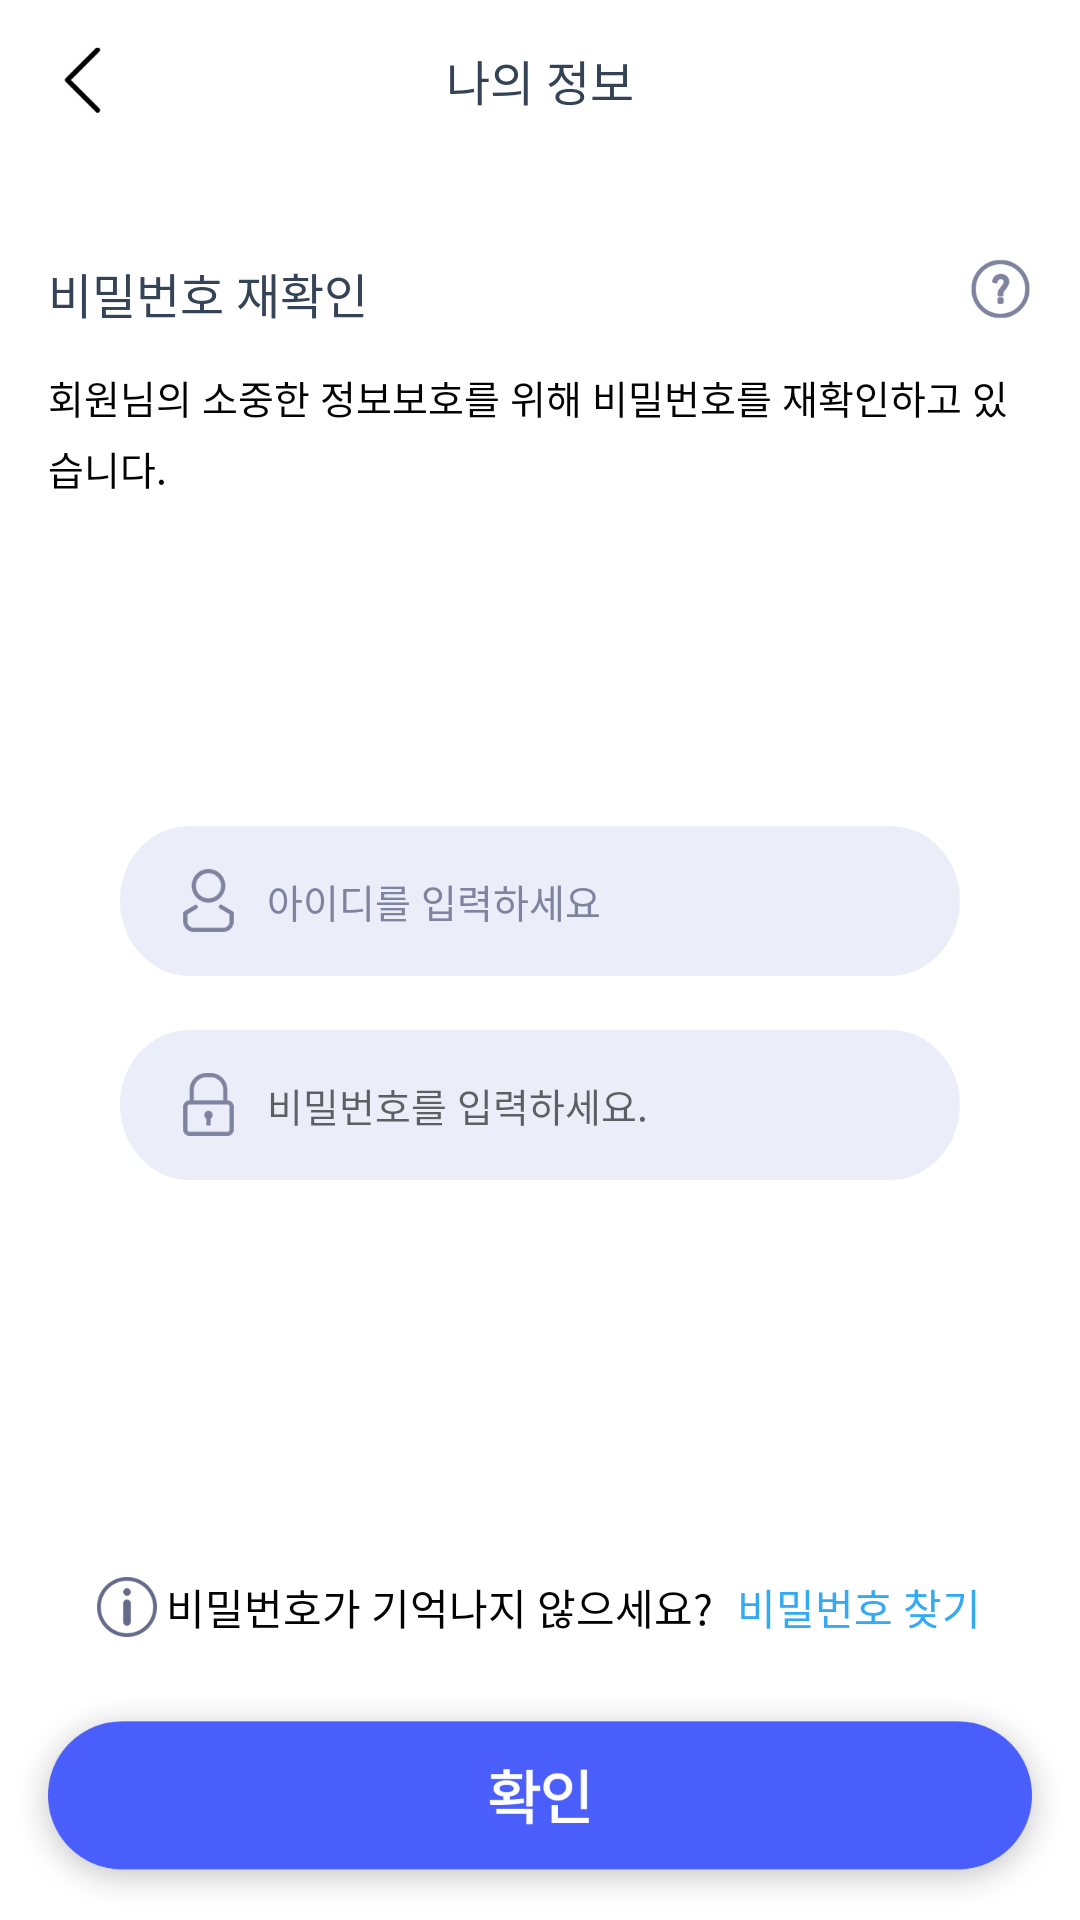

Icons on this 1080*1920 Android screen, each with its box as [x1, y1, x2, y2]:
help: [971, 260, 1030, 318]
lock: [183, 1073, 234, 1136]
login info: [97, 1577, 157, 1637]
person: [183, 869, 234, 932]
top back: [64, 47, 101, 113]
